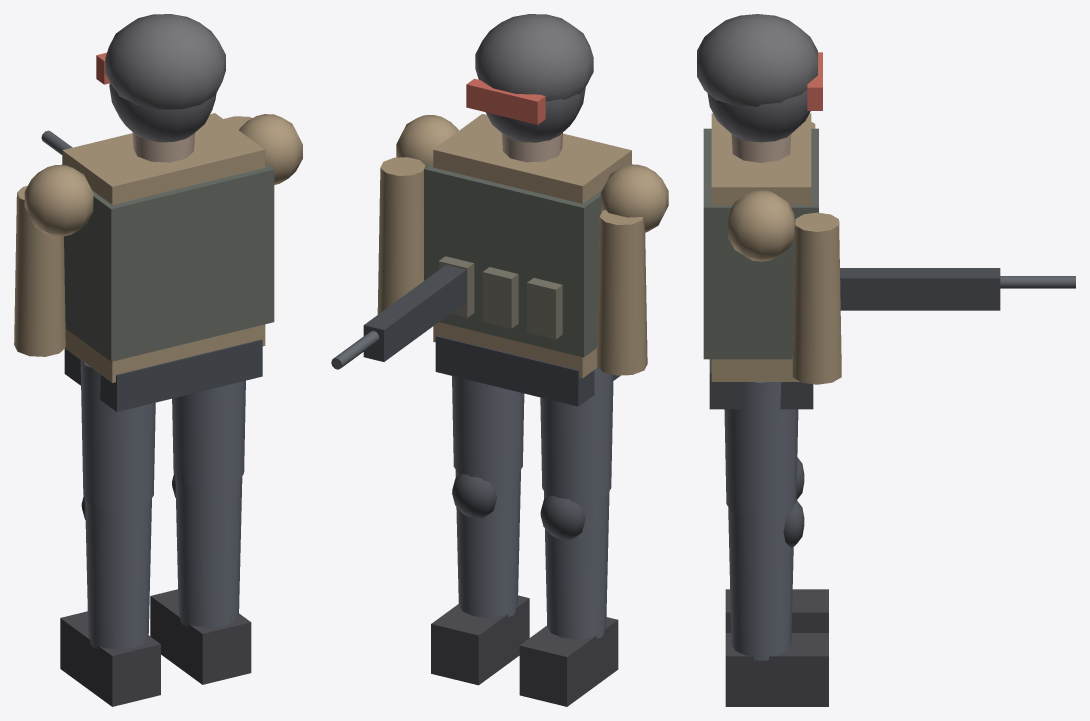
The model's file is enemy.glb.
3 views of the same model, side by side, from view 1: azimuth 30°, elevation 25°; view 2: azimuth 150°, elevation 25°; view 3: azimuth 270°, elevation 25° (orthographic). The views are drawn at different scales.
Parts seen in each view (by area): view 1: enemy; view 2: enemy; view 3: enemy.
Boxes of the visible parts, x1=… form: enemy: x1=14, y1=14, x2=302, y2=706; enemy: x1=331, y1=14, x2=668, y2=706; enemy: x1=697, y1=14, x2=1075, y2=706.
Bounding box in the file's own units: 0.7755 × 1.81 × 0.9517.
